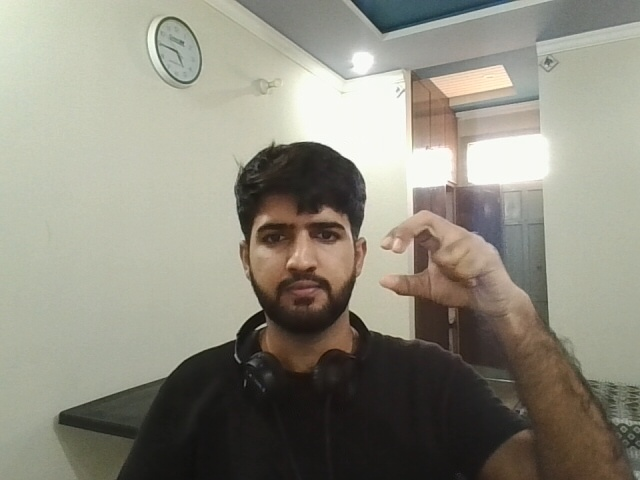No: (371, 185, 532, 330)
